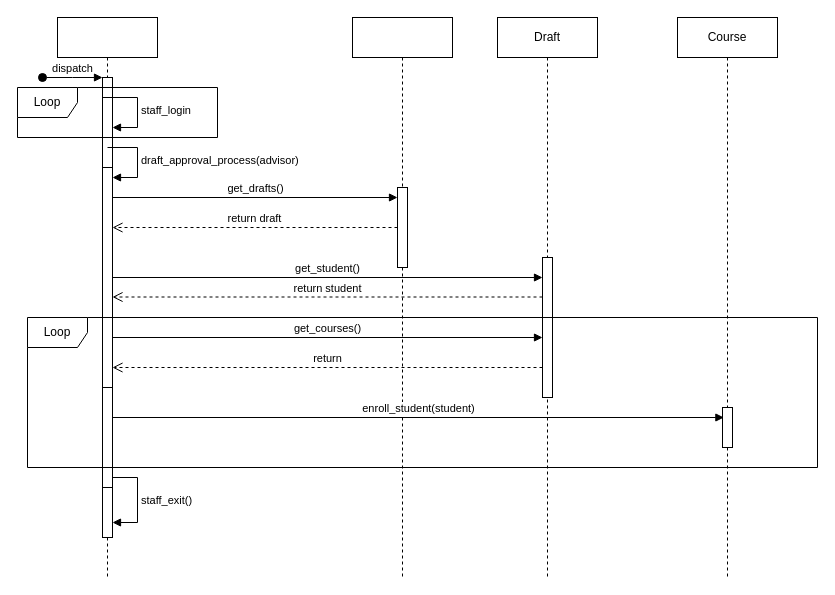
This 835x595 diagram has some shape labels left out. The shapes that lost their labels are listed below. From the top down, each one's box as (x1, y1, x2, y2) in pixels, then its label:
(56, 16, 158, 578): Main
(352, 16, 452, 578): Advisor
